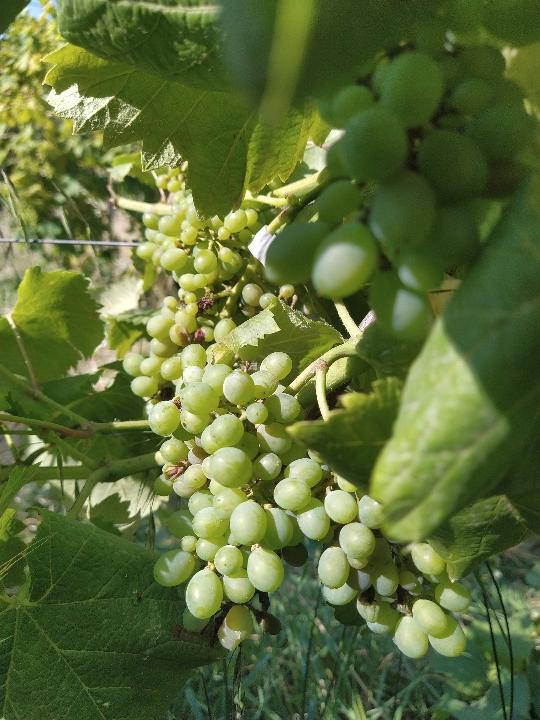grape: (117, 340, 477, 662)
